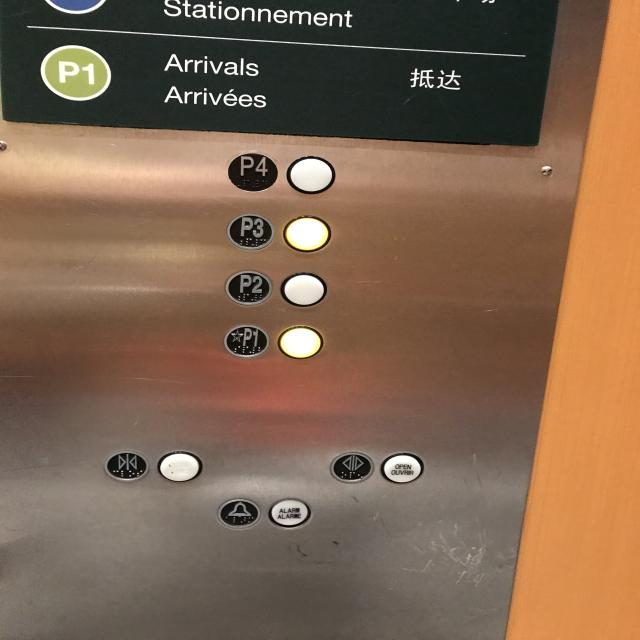P2: (223, 269, 273, 307)
P3: (226, 213, 276, 252)
P4: (225, 151, 280, 194)
alarm: (214, 496, 262, 528)
close: (101, 451, 151, 484)
empty: (285, 153, 336, 195), (281, 214, 333, 254), (278, 270, 328, 308), (275, 323, 325, 359)
open: (326, 451, 375, 484)
sP1: (222, 324, 271, 359)
text_blur: (154, 449, 204, 484), (266, 496, 312, 528)
text_open hold: (377, 450, 424, 484)
